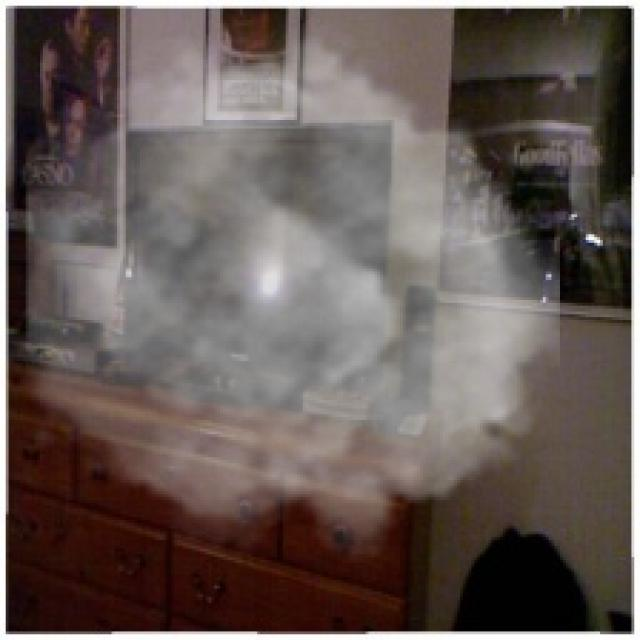smoke: (26, 14, 560, 563)
